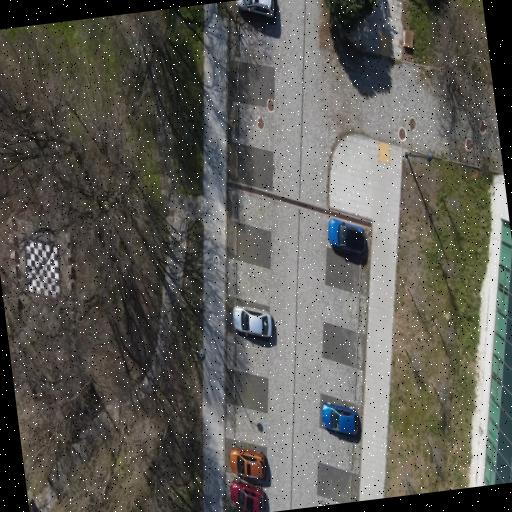car: (328, 218, 366, 254), (321, 402, 359, 434), (233, 305, 272, 336), (229, 446, 266, 478), (230, 479, 265, 511), (237, 0, 274, 16), (318, 500, 326, 505)
